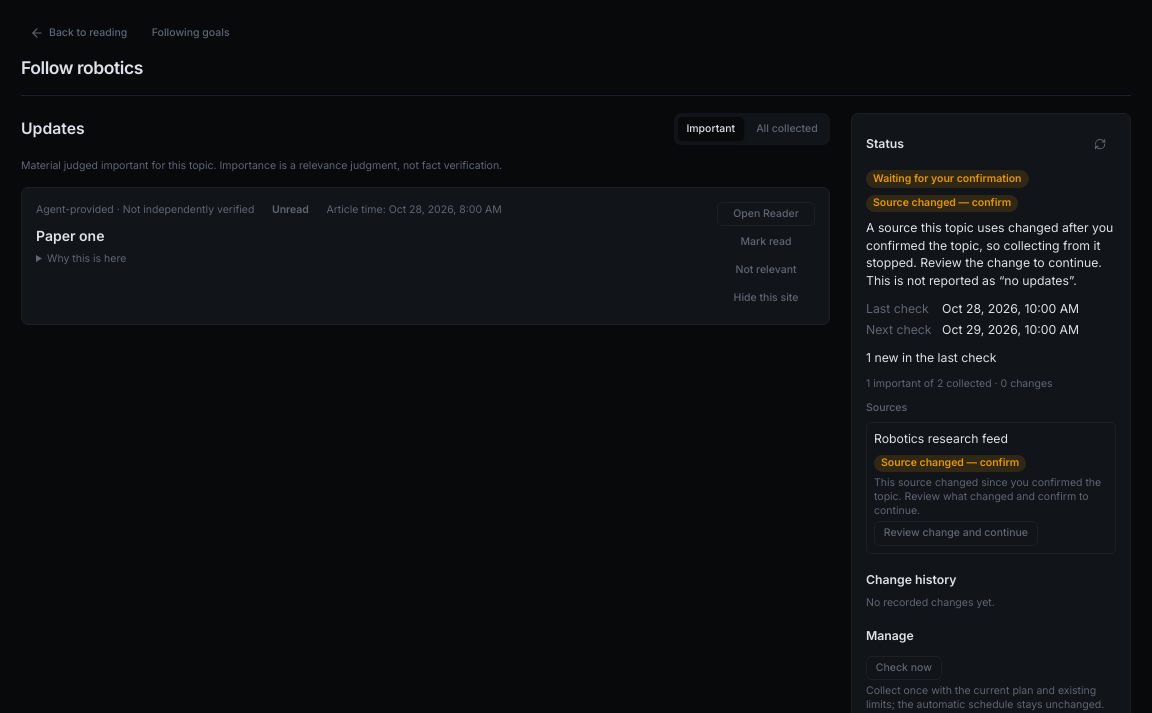
Test: REPORTED: a Source changed after confirmation is explained in the topic and confirmed there, not sent to the Source page
This screenshot has width=1152, height=713.
expect the text "A source this topic uses changed after you confirmed the topic" is shown: met, box [866,220,1113,288]
Step 1. Click the button "Review change and continue" → (956, 533), box [874,521,1038,546]
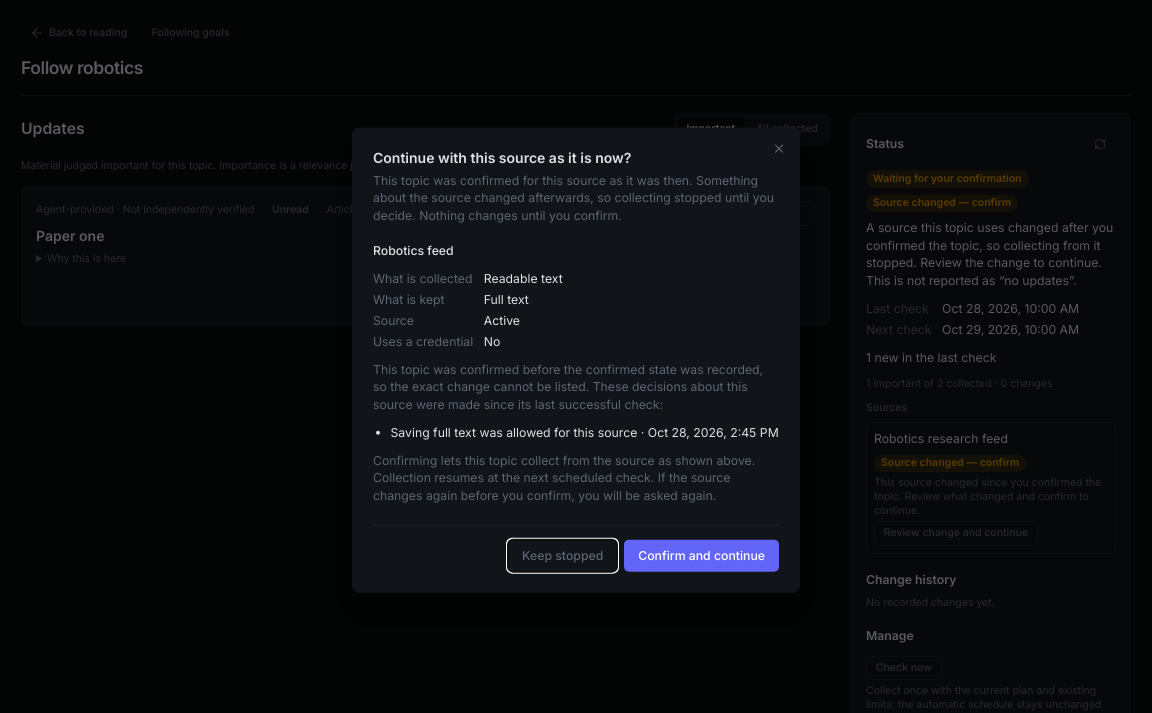
expect the text "Robotics feed" is shown: met, box [373,242,454,257]
expect the text "Full text" is shown: met, box [484,291,529,306]
expect the text "Readable text" is shown: met, box [484,270,563,285]
Step 2. Click the button "Confirm and continue" → (702, 556), box [624,540,779,571]
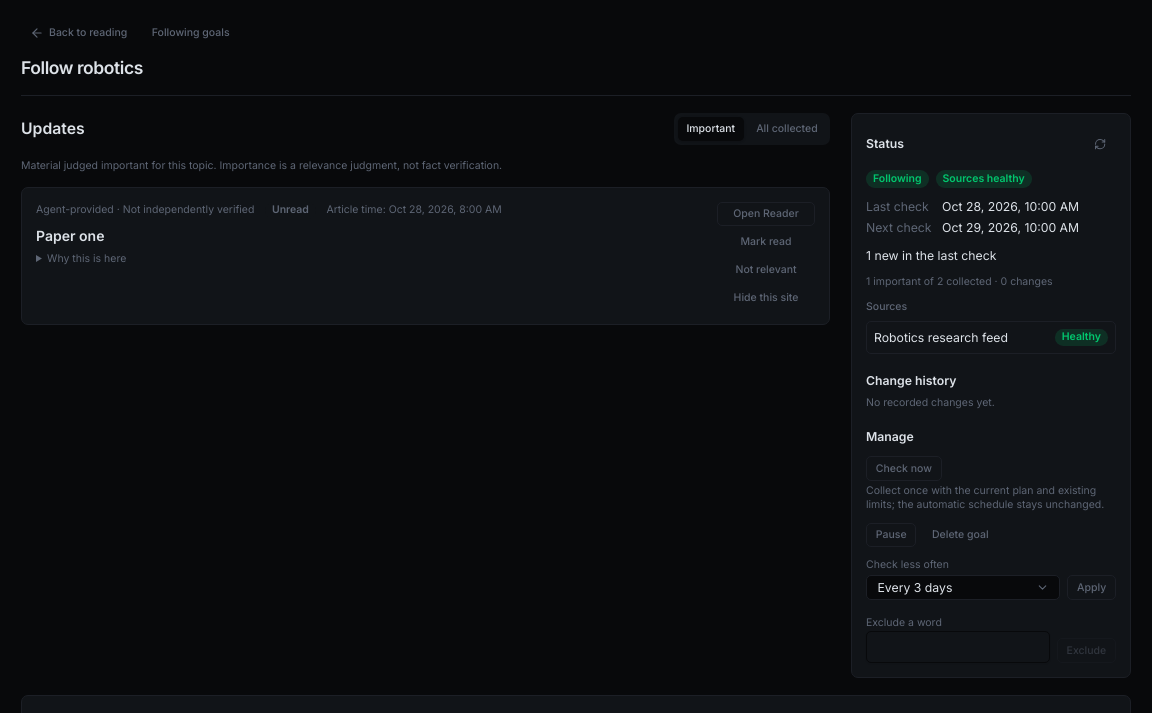
expect the text "A source this topic uses changed" is gone: met
expect the dialog is gone: met
